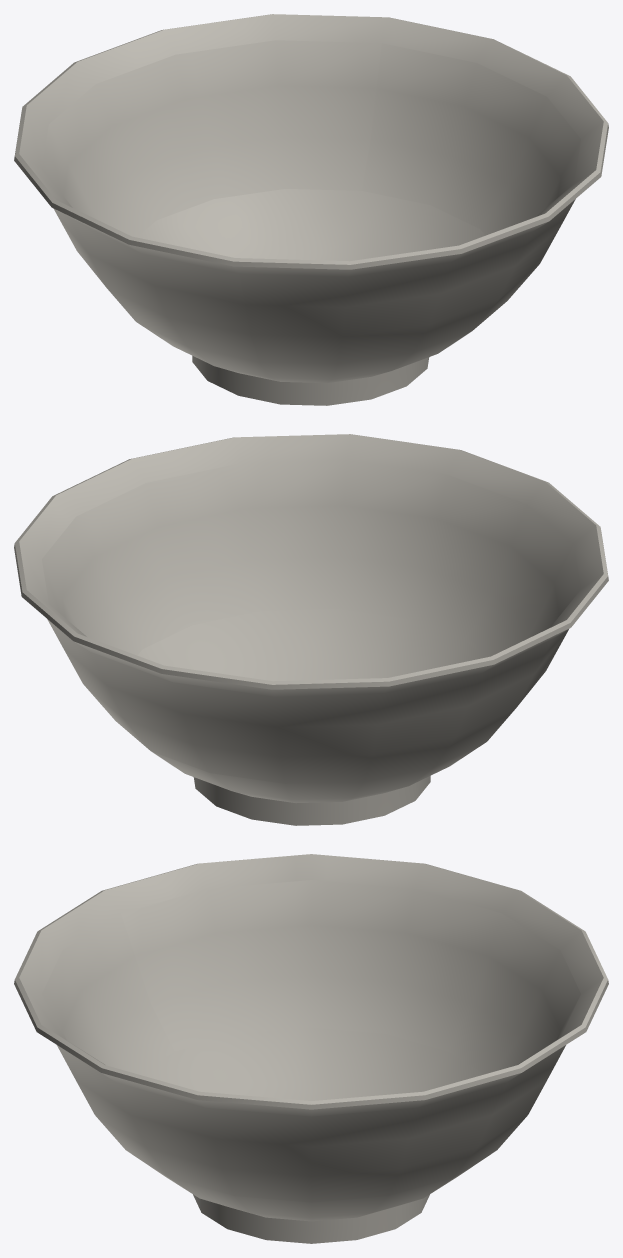
The model's file is bowl.glb.
3 renders of one model, top to bottom at view 1: azimuth 30°, elevation 25°; view 2: azimuth 150°, elevation 25°; view 3: azimuth 270°, elevation 25°, orthographic.
Visible parts, largest first — view 1: bowl; view 2: bowl; view 3: bowl.
Boxes of the visible parts, box(x1,y1,x2,y2) form: bowl: box(14, 14, 608, 405); bowl: box(14, 434, 608, 825); bowl: box(14, 854, 608, 1243).
Bounding box in the file's own units: 0.1498 × 0.06 × 0.1498.
Materials: 1 (1 with a texture image).
